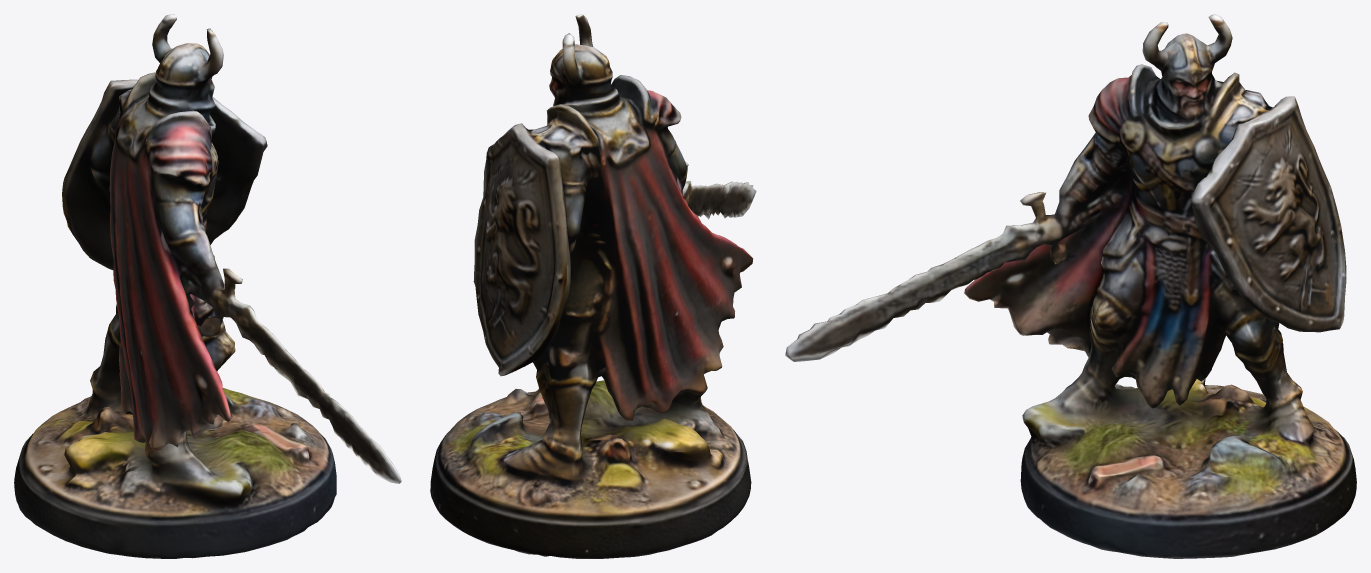
The model's file is knight.glb.
The picture shows the model from 3 angles, left to right: view 1: azimuth 30°, elevation 25°; view 2: azimuth 150°, elevation 25°; view 3: azimuth 270°, elevation 25°; orthographic projection. The views are drawn at different scales.
Parts seen in each view (by area): view 1: lagrange_node; view 2: lagrange_node; view 3: lagrange_node.
Boxes of the visible parts, left/top/right/bottom form: lagrange_node: left=14, top=14, right=401, bottom=558; lagrange_node: left=430, top=14, right=756, bottom=558; lagrange_node: left=785, top=14, right=1356, bottom=558.
Bounding box in the file's own units: 1.19 × 1.91 × 2.05.
Materials: 1 (1 with a texture image).
